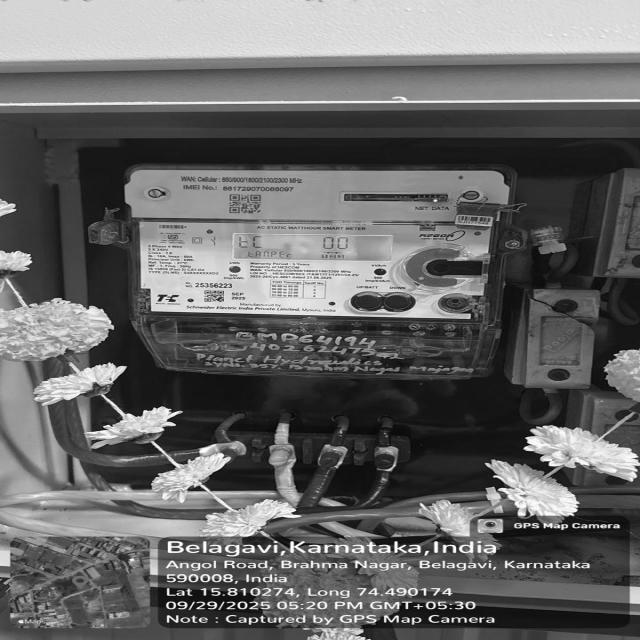meter: (121, 168, 502, 320)
